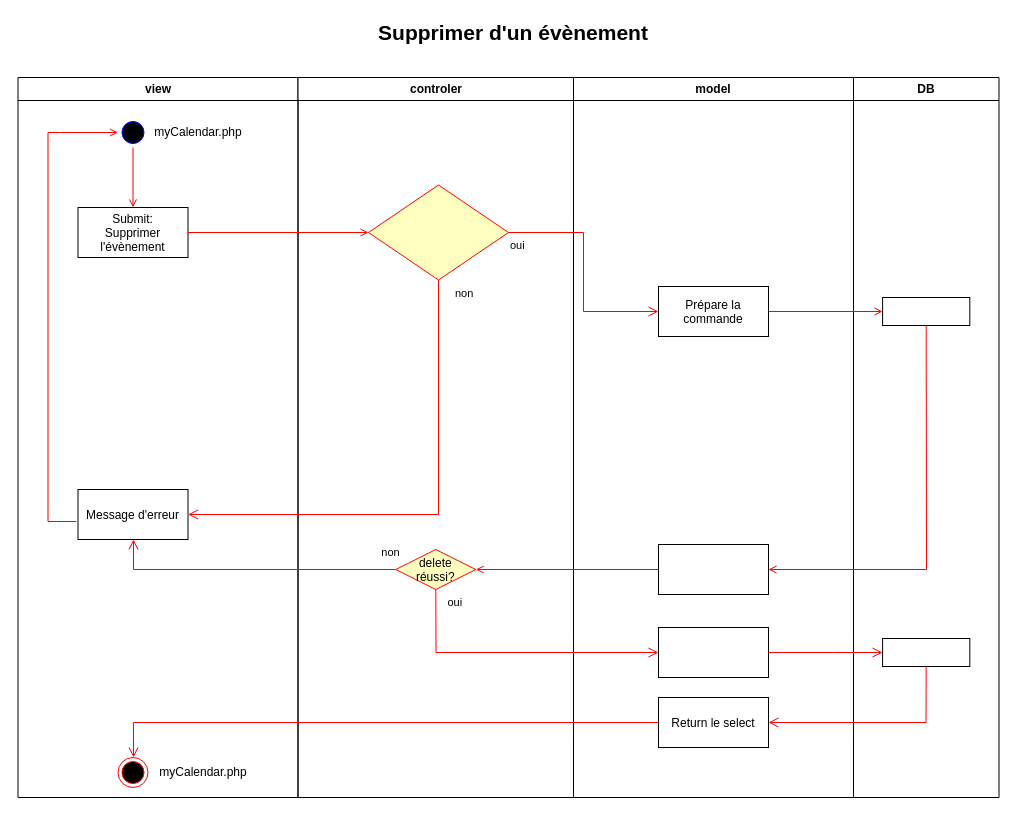
This 1016x815 diagram has some shape labels left out. The centre of each missing label's shape, as x and y in pixels:
"Check si un évènement est sélectionné" goes at point 438,232.
"Fait un delete" goes at point 926,311.
"Fait un select" goes at point 926,652.
"Prépare la commande pour un select du calendar" goes at point 713,652.
"Return si le delete est true / false" goes at point 713,569.
